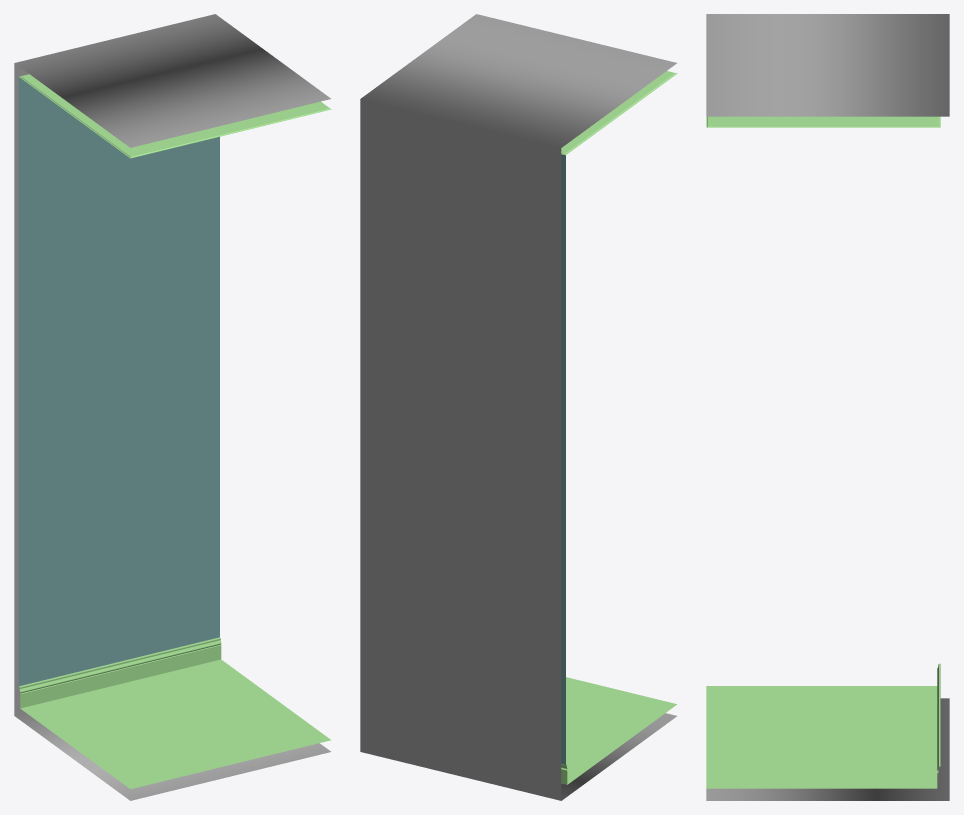
File: Room_1x1_side_geo.fbx
3 views of the same model, side by side, from view 1: azimuth 30°, elevation 25°; view 2: azimuth 150°, elevation 25°; view 3: azimuth 270°, elevation 25° (orthographic). The views are drawn at different scales.
Parts seen in each view (by area): view 1: Room_1x1_side_geo; view 2: Room_1x1_side_geo; view 3: Room_1x1_side_geo.
Boxes of the visible parts, x1,y1,x2,y2 form: Room_1x1_side_geo: [14, 14, 331, 800]; Room_1x1_side_geo: [360, 14, 677, 800]; Room_1x1_side_geo: [706, 14, 949, 800].
Size of the model in its own units: 1 by 3.1 by 1.
